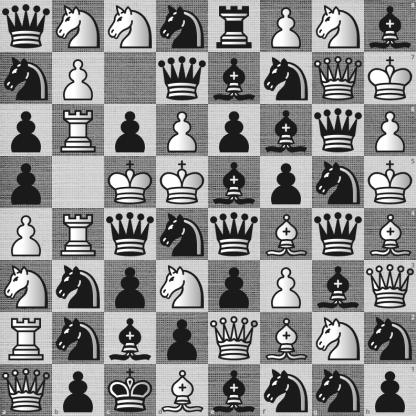B: (156, 364, 209, 416), (364, 209, 416, 260), (261, 209, 312, 260), (261, 313, 312, 364)
K: (364, 156, 416, 209), (364, 52, 416, 104), (105, 157, 156, 208), (157, 157, 208, 208)
N: (1, 261, 52, 312), (53, 1, 104, 52), (105, 1, 156, 52), (157, 261, 208, 312), (313, 1, 364, 52), (313, 313, 364, 364)
P: (364, 104, 416, 156), (1, 209, 52, 260), (53, 53, 104, 104), (157, 105, 208, 156), (261, 1, 312, 52), (261, 261, 312, 312)
Q: (0, 364, 52, 416), (364, 260, 416, 312), (209, 313, 260, 364), (313, 53, 364, 104)
R: (1, 313, 52, 364), (53, 105, 104, 156), (53, 209, 104, 260)
b: (364, 0, 416, 52), (209, 364, 260, 416), (105, 313, 156, 364), (209, 53, 260, 104), (209, 157, 260, 208), (261, 105, 312, 156), (313, 261, 364, 312)
board: (0, 0, 415, 415)
k: (104, 364, 156, 416)
n: (260, 364, 312, 416), (312, 364, 364, 416), (364, 312, 416, 364), (1, 53, 52, 104), (53, 261, 104, 312), (53, 313, 104, 364), (157, 1, 208, 52), (157, 209, 208, 260), (261, 53, 312, 104), (313, 157, 364, 208)
p: (52, 364, 104, 416), (364, 364, 416, 416), (1, 105, 52, 156), (1, 157, 52, 208), (105, 105, 156, 156), (105, 261, 156, 312), (157, 313, 208, 364), (209, 105, 260, 156), (209, 261, 260, 312), (261, 157, 312, 208)
q: (1, 1, 52, 52), (105, 209, 156, 260), (157, 53, 208, 104), (209, 209, 260, 260), (313, 105, 364, 156), (313, 209, 364, 260)
r: (209, 1, 260, 52)
